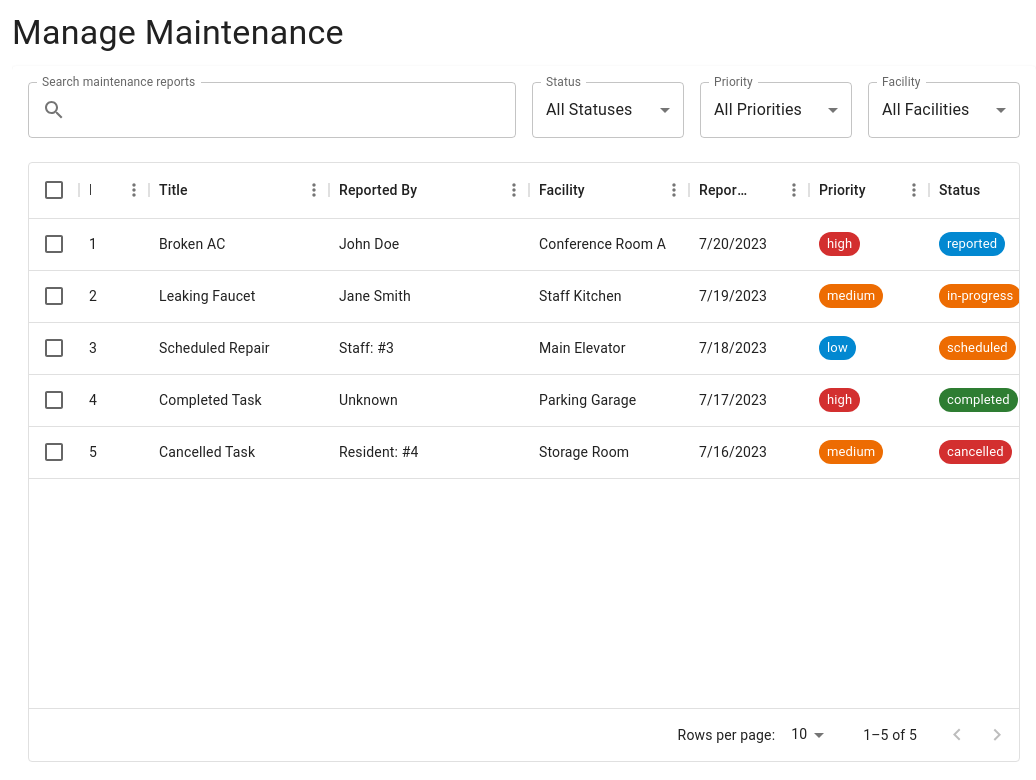
Scenario: ManageMaintenancePage › filters reports by facility name search term
This screenshot has width=1036, height=780.
Expected: the text "Leaking Faucet" is shown, [159,286,255,306]
Type "Kitchen" into the field labelled "Search maintenance reports". click: (295, 110)
box: [74,82,516,138]
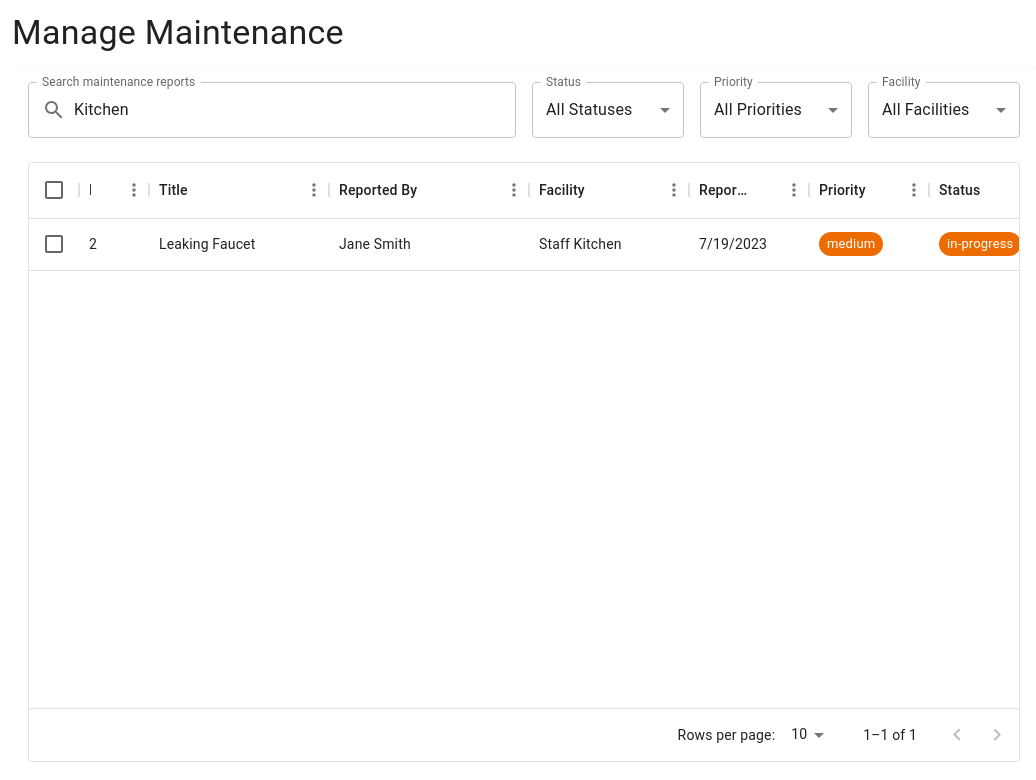
Expected: the text "Leaking Faucet" is shown, [159,234,255,254]
Expected: the text "Broken AC" is gone
